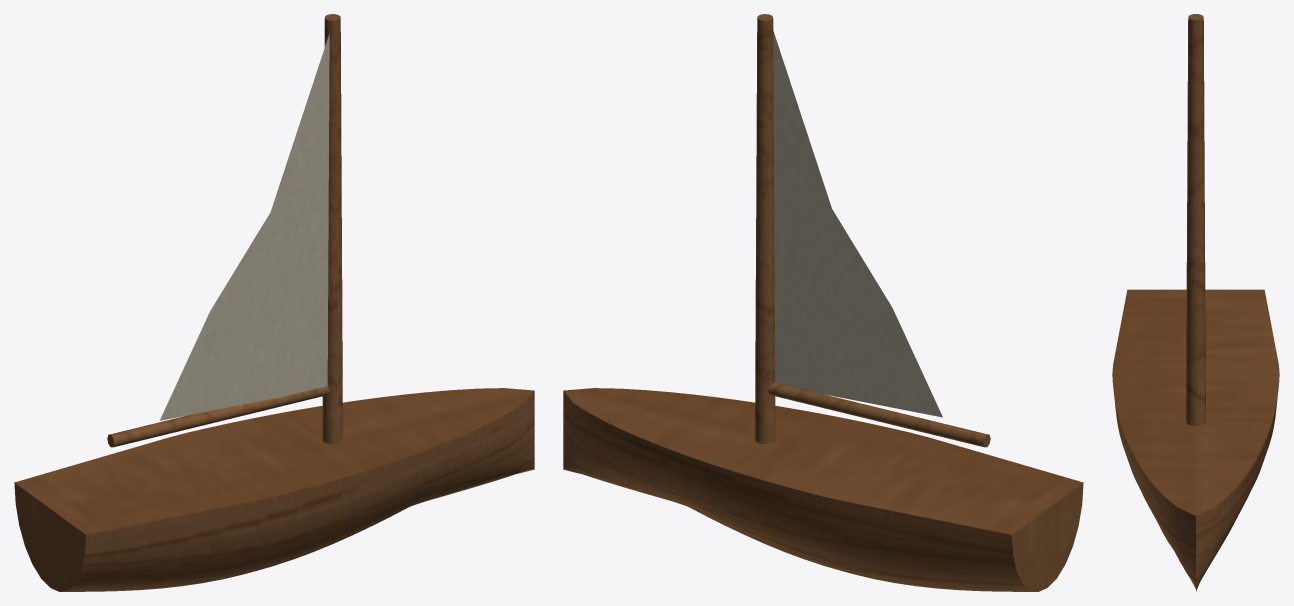
File: toy-boat.glb
The picture shows the model from 3 angles, left to right: view 1: azimuth 30°, elevation 25°; view 2: azimuth 150°, elevation 25°; view 3: azimuth 270°, elevation 25°; orthographic projection. The views are drawn at different scales.
Visible parts, largest first — view 1: Deck, Hull, Sail, Mast, Transom, Boom; view 2: Deck, Hull, Sail, Mast, Transom, Boom; view 3: Deck, Mast, Hull.
Part boxes in pixels (x1,y1,x2,y2): Deck: (14, 388, 533, 534); Hull: (60, 391, 534, 591); Sail: (159, 33, 329, 420); Mast: (322, 14, 342, 443); Transom: (14, 482, 85, 591); Boom: (107, 386, 329, 447); Deck: (564, 388, 1083, 534); Hull: (563, 391, 1037, 591); Sail: (773, 31, 942, 417); Mast: (755, 14, 775, 443); Transom: (1012, 482, 1083, 591); Boom: (768, 382, 990, 447); Deck: (1112, 289, 1279, 515); Mast: (1186, 14, 1205, 425); Hull: (1114, 395, 1277, 591).
Size of the model in its own units: 0.24 by 0.25 by 0.0749.
Materials: 3 (3 with a texture image).
